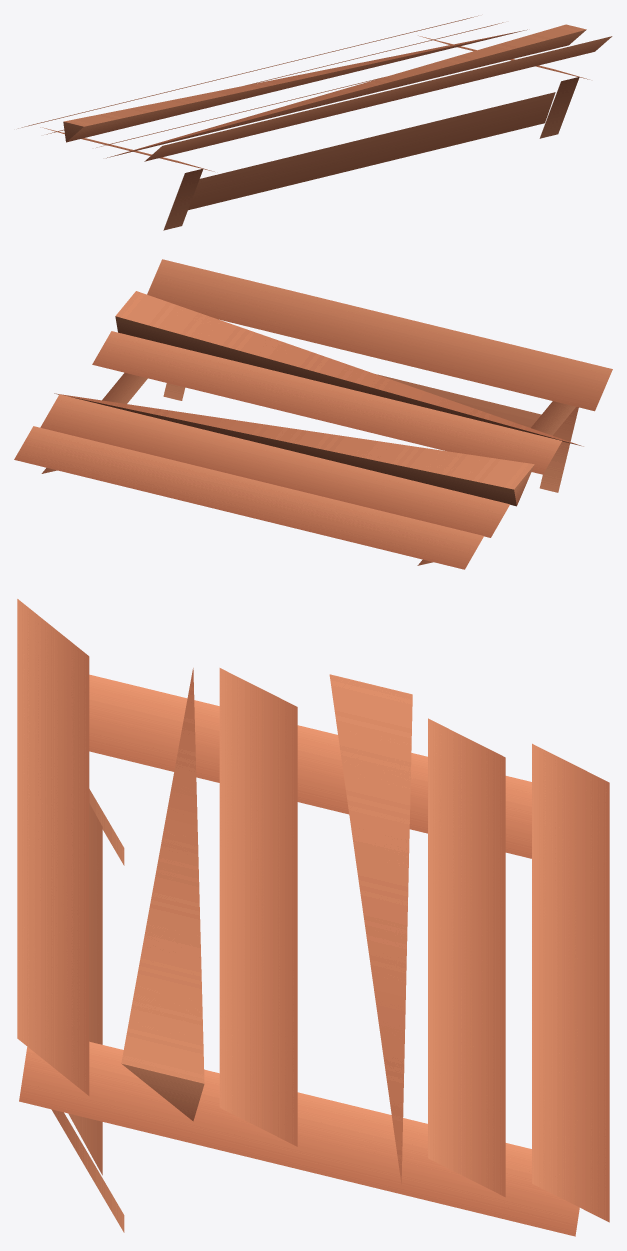
File: ramp.glb
3 views of the same model, one above another, from view 1: azimuth 30°, elevation 25°; view 2: azimuth 150°, elevation 25°; view 3: azimuth 270°, elevation 25° (orthographic). The views are drawn at different scales.
Parts seen in each view (by area): view 1: ramp-wide; view 2: ramp-wide; view 3: ramp-wide.
Boxes of the visible parts, x1,y1,x2,y2 form: ramp-wide: (18,15,612,230); ramp-wide: (14,259,612,569); ramp-wide: (17,599,609,1236).
Bounding box in the file's own units: 5.14 × 1.14 × 2.75.
Materials: 1 (1 with a texture image).
